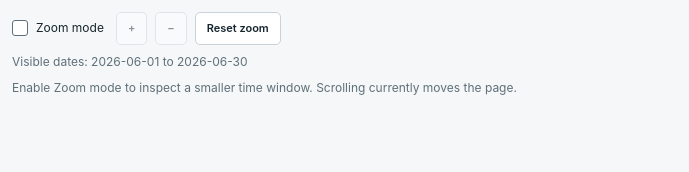
controlled chart zoom actions › retains caller-supplied dates when mode is toggled off and resets only on request
Click the checkbox at (20, 28), box 12,20 -> 28,36
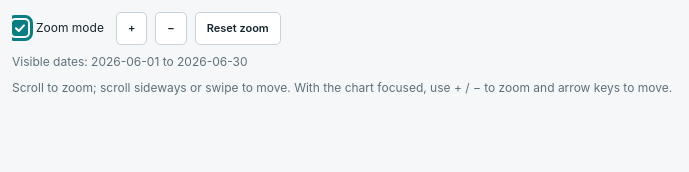
Click the button named "Zoom in" at (132, 28), box 116,12 -> 147,44
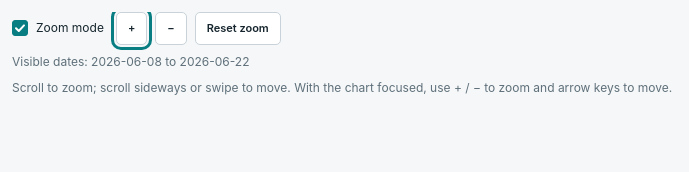
Click the checkbox at (20, 28), box 12,20 -> 28,36
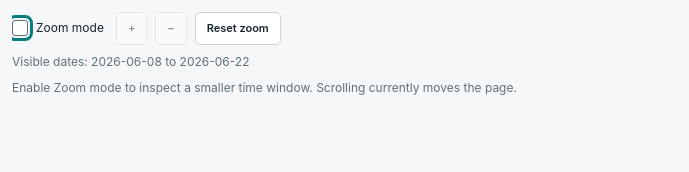
Expected: the button named "Zoom in" is disabled, 116,12 -> 147,44
Expected: the text "Visible dates: 2026-06-08 to 2026-06-22" is shown, 12,54 -> 250,68
Click the button "Reset zoom" at (238, 28), box 195,12 -> 281,44
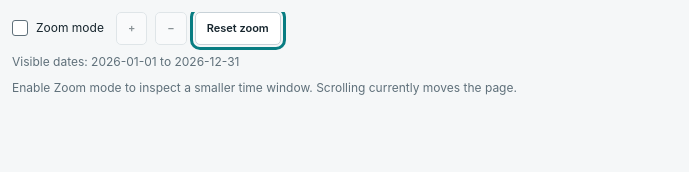
Expected: the checkbox is not checked, 12,20 -> 28,36
Expected: the text "Visible dates: 2026-01-01 to 2026-12-31" is shown, 12,54 -> 240,68
